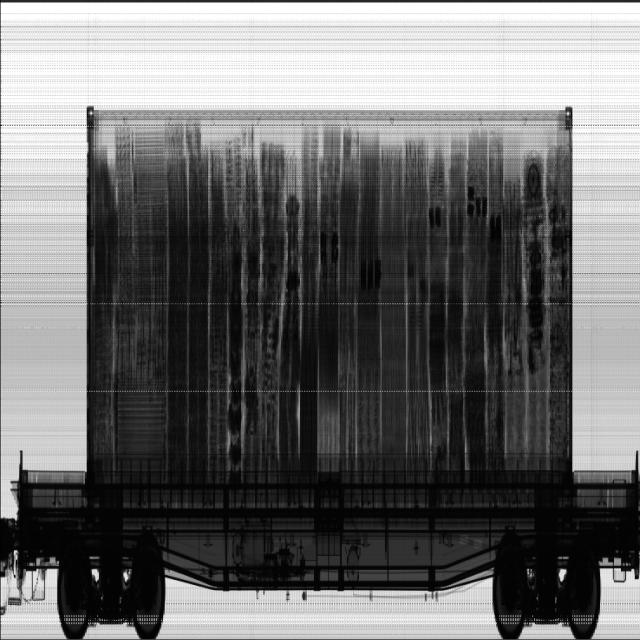auto parts: (524, 158, 545, 370)
lamps: (135, 127, 167, 308), (115, 387, 165, 457)
